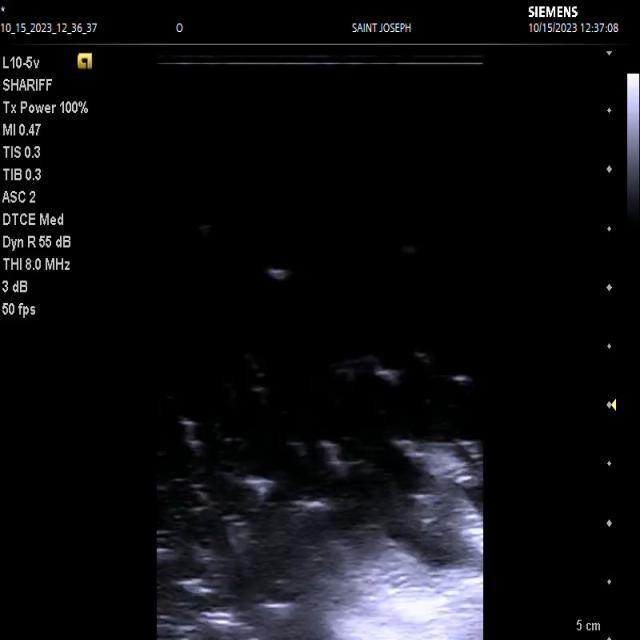tissue: (318, 441, 483, 640)
